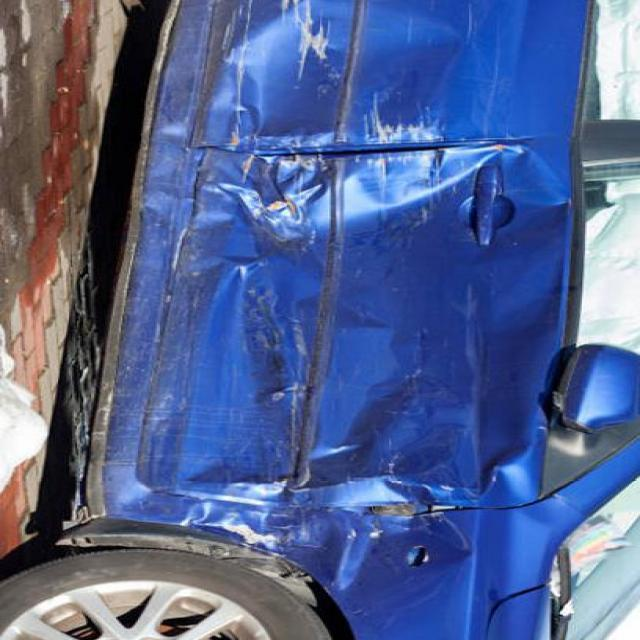dent: (160, 97, 540, 266), (166, 447, 472, 590)
